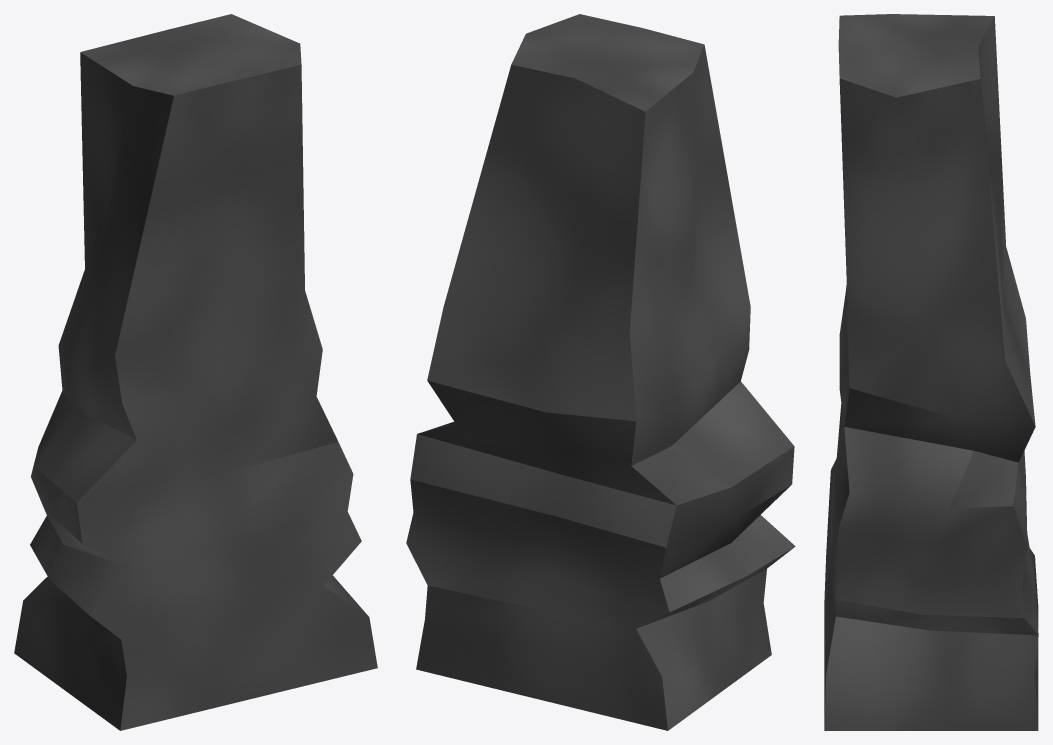
The model's file is GAMEJAMPUFFER - LongStone 3.fbx.
The picture shows the model from 3 angles, left to right: view 1: azimuth 30°, elevation 25°; view 2: azimuth 150°, elevation 25°; view 3: azimuth 270°, elevation 25°; orthographic projection. The views are drawn at different scales.
Parts seen in each view (by area): view 1: Cube.002; view 2: Cube.002; view 3: Cube.002.
Boxes of the visible parts, left/top/right/bottom form: Cube.002: left=14, top=14, right=377, bottom=730; Cube.002: left=406, top=14, right=795, bottom=730; Cube.002: left=824, top=14, right=1038, bottom=730.
Size of the model in its own units: 157 by 300 by 93.86.
1 material, 1 textured.
